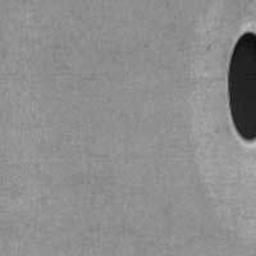Punching: (227, 31, 256, 142)
